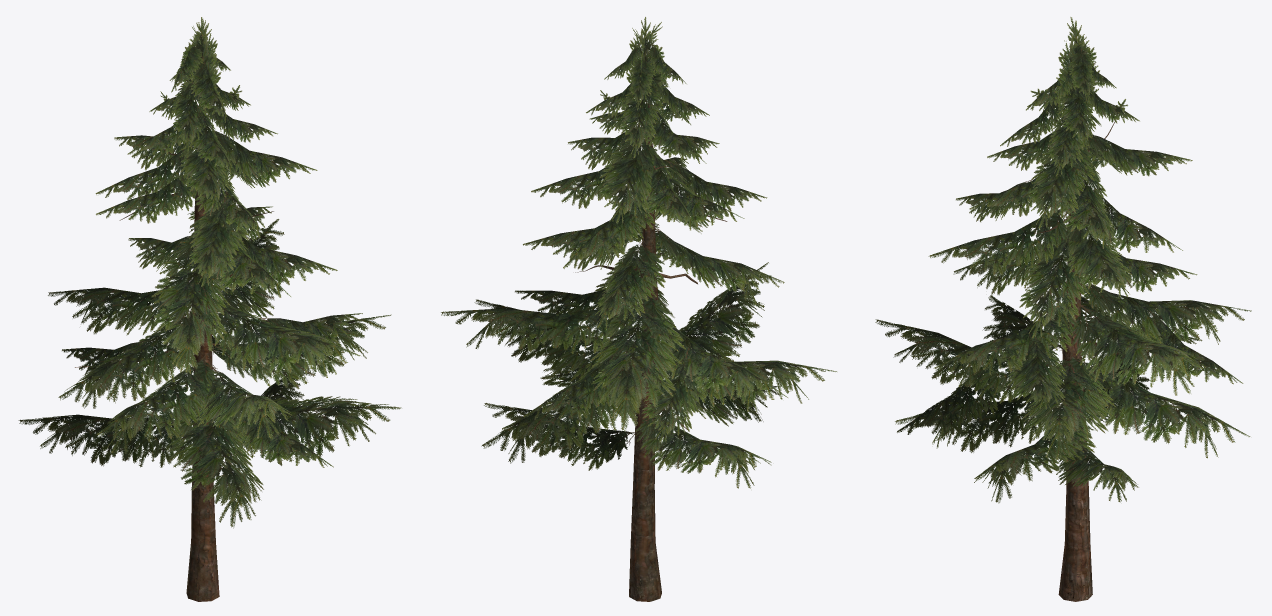
File: Wood.fbx
The picture shows the model from 3 angles, left to right: view 1: azimuth 30°, elevation 25°; view 2: azimuth 150°, elevation 25°; view 3: azimuth 270°, elevation 25°; orthographic projection.
Visible parts, largest first — view 1: gar_b0_m0190 Part 0.0, gar_b0_m0190 Part 1.0; view 2: gar_b0_m0190 Part 0.0, gar_b0_m0190 Part 1.0; view 3: gar_b0_m0190 Part 0.0, gar_b0_m0190 Part 1.0.
Part boxes in pixels (left/top/right/bottom): gar_b0_m0190 Part 0.0: left=18, top=17, right=401, bottom=528; gar_b0_m0190 Part 1.0: left=75, top=108, right=273, bottom=601; gar_b0_m0190 Part 0.0: left=441, top=17, right=836, bottom=488; gar_b0_m0190 Part 1.0: left=575, top=94, right=727, bottom=601; gar_b0_m0190 Part 0.0: left=875, top=17, right=1251, bottom=503; gar_b0_m0190 Part 1.0: left=1034, top=110, right=1146, bottom=601.
Size of the model in its own units: 657 by 1063 by 644.
2 materials, 2 textured.
